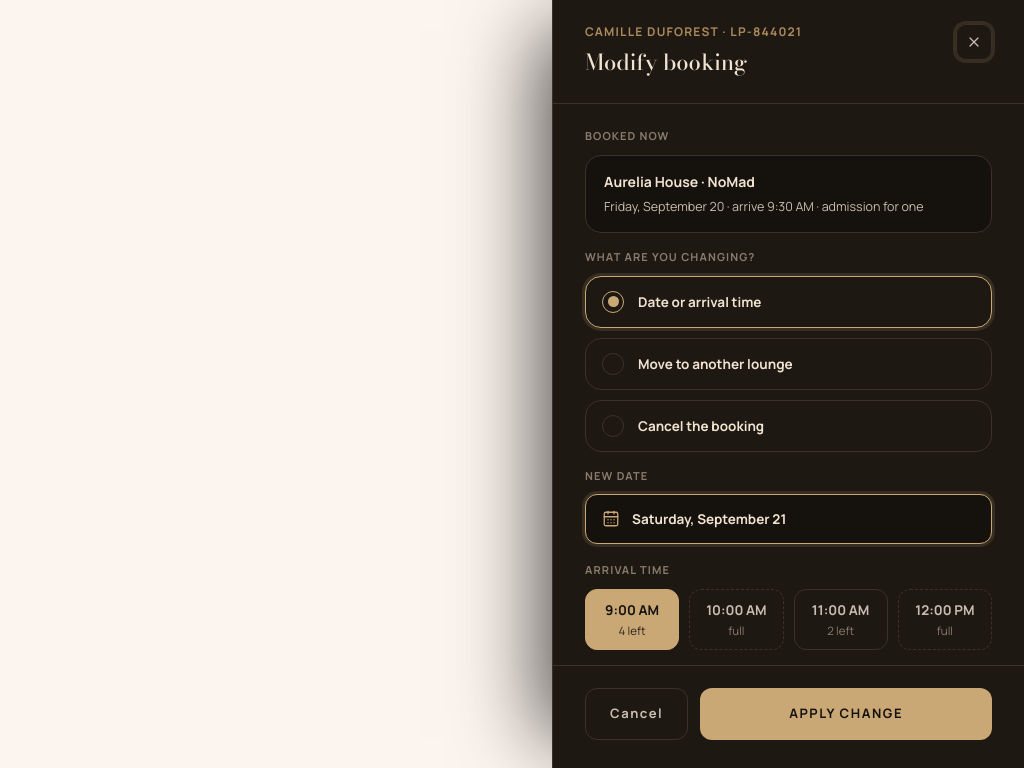
Test case: BookingOverrideDrawer › hides the arrival time slots when cancelling the booking instead
Click the radio button labelled "Cancel the booking".
click(788, 426)  # box [585,400,992,452]
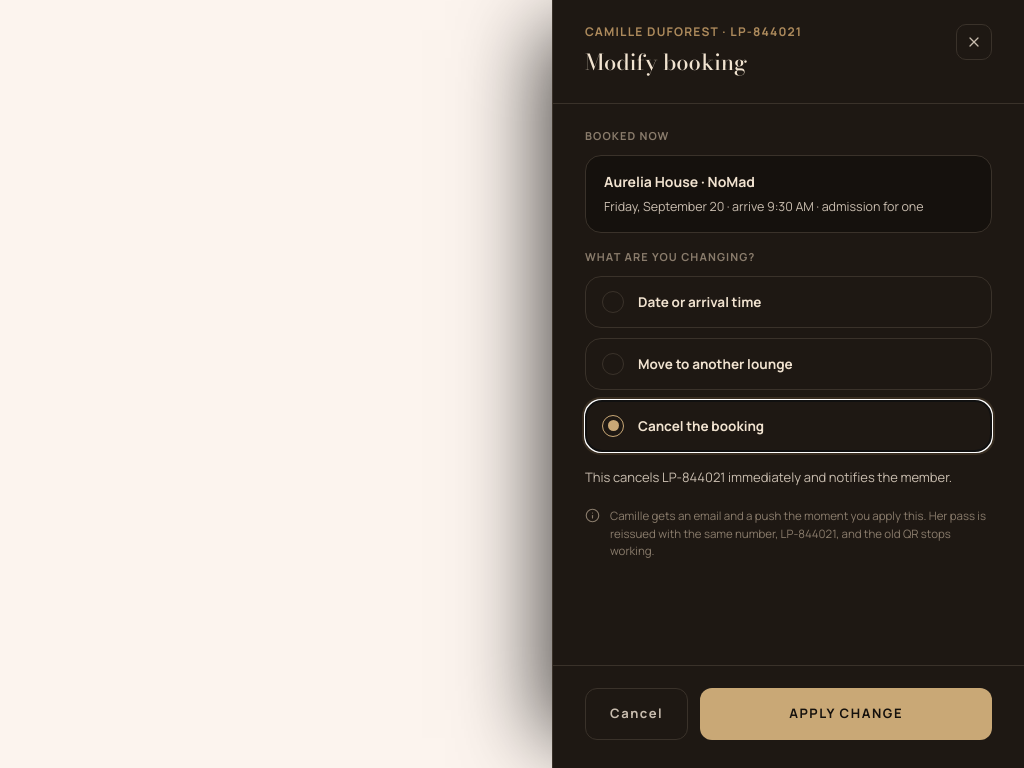
Now the button "9:00 AM" is gone
Now the text "This cancels LP-844021 immediately and notifies the member." is shown, box [585,468,992,487]
